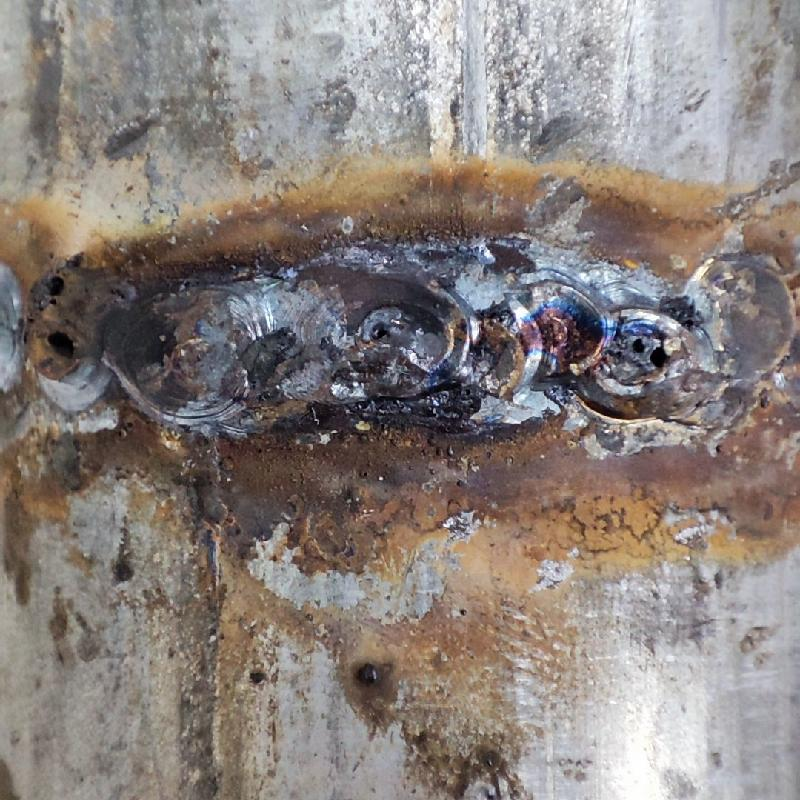Surface_pores: (33, 268, 83, 370), (620, 319, 680, 378)
crater: (321, 254, 799, 429)
